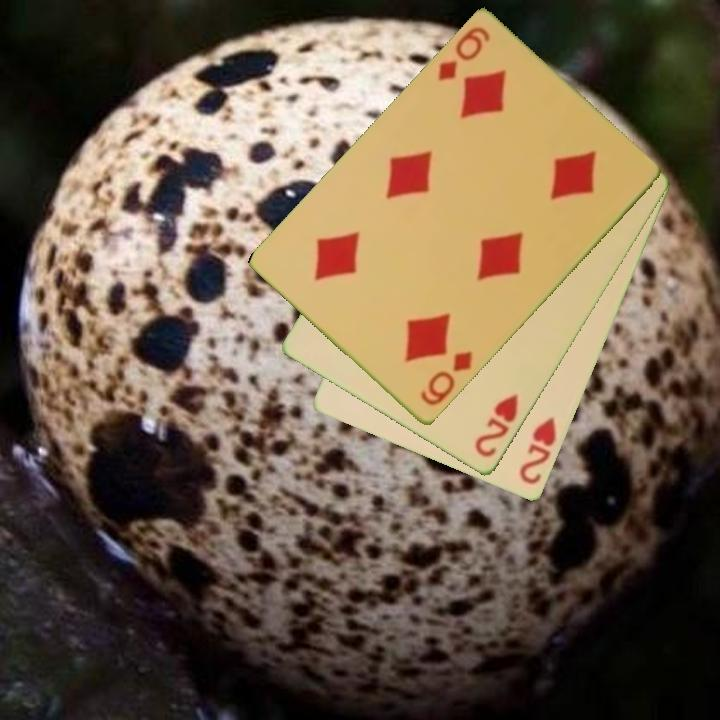2h: (471, 391, 522, 461), (516, 413, 560, 489)
6d: (433, 23, 493, 85), (417, 348, 476, 410)
